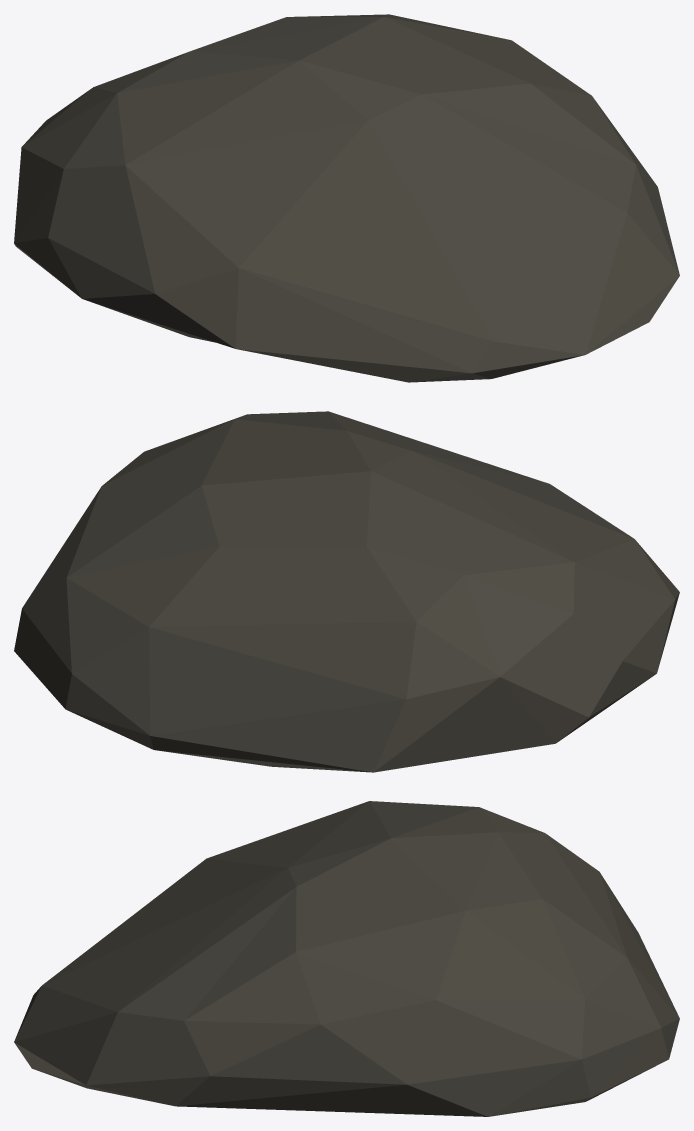
The model's file is synty-rock-rounded-01.gltf.
3 views of the same model, one above another, from view 1: azimuth 30°, elevation 25°; view 2: azimuth 150°, elevation 25°; view 3: azimuth 270°, elevation 25° (orthographic). The views are drawn at different scales.
Visible parts, largest first — view 1: SM_Rock_Rounded_01; view 2: SM_Rock_Rounded_01; view 3: SM_Rock_Rounded_01.
Part boxes in pixels (<box>): SM_Rock_Rounded_01: <box>14,14,679,382</box>; SM_Rock_Rounded_01: <box>14,411,679,772</box>; SM_Rock_Rounded_01: <box>14,801,679,1116</box>.
Bounding box in the file's own units: 1.37 × 0.5035 × 1.57.
1 material, 1 textured.
